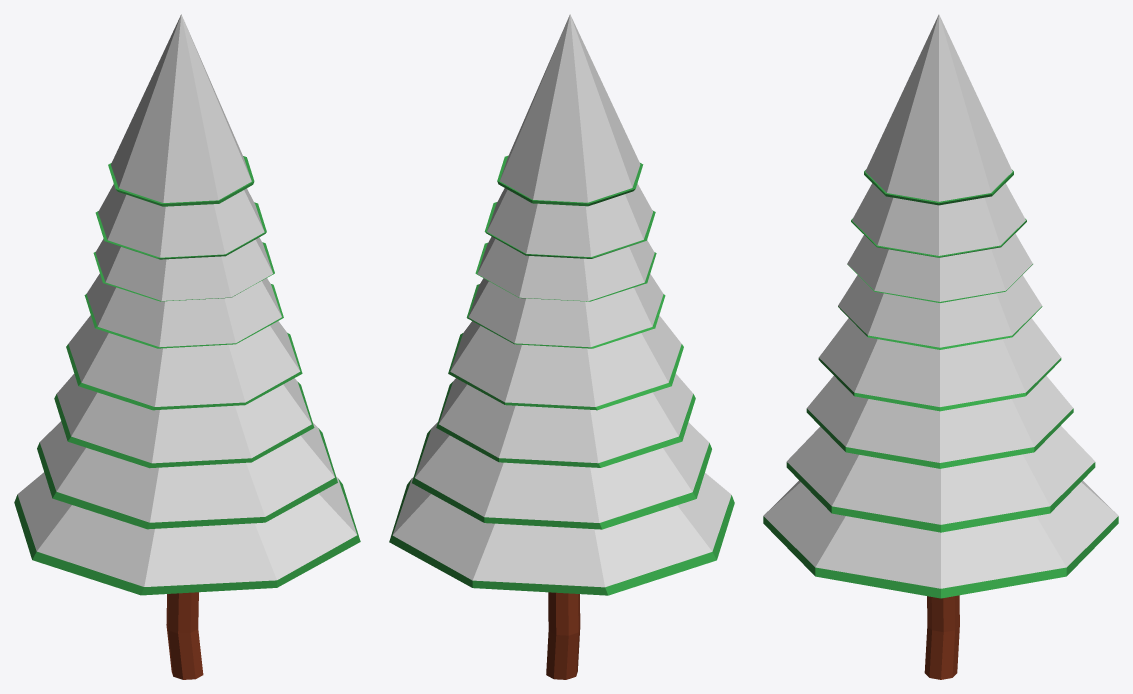
Rendered from tree.9.fbx.
The picture shows the model from 3 angles, left to right: view 1: azimuth 30°, elevation 25°; view 2: azimuth 150°, elevation 25°; view 3: azimuth 270°, elevation 25°; orthographic projection.
Parts seen in each view (by area): view 1: Tree.009; view 2: Tree.009; view 3: Tree.009.
Boxes of the visible parts, bbox=[...] form: Tree.009: bbox=[14, 14, 360, 679]; Tree.009: bbox=[389, 14, 734, 679]; Tree.009: bbox=[763, 14, 1118, 679].
Bounding box in the file's own units: 436 × 888 × 436.
